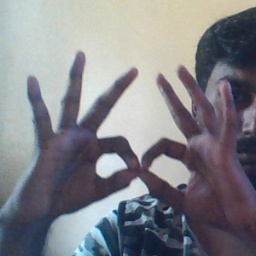B: (77, 97, 211, 200)
